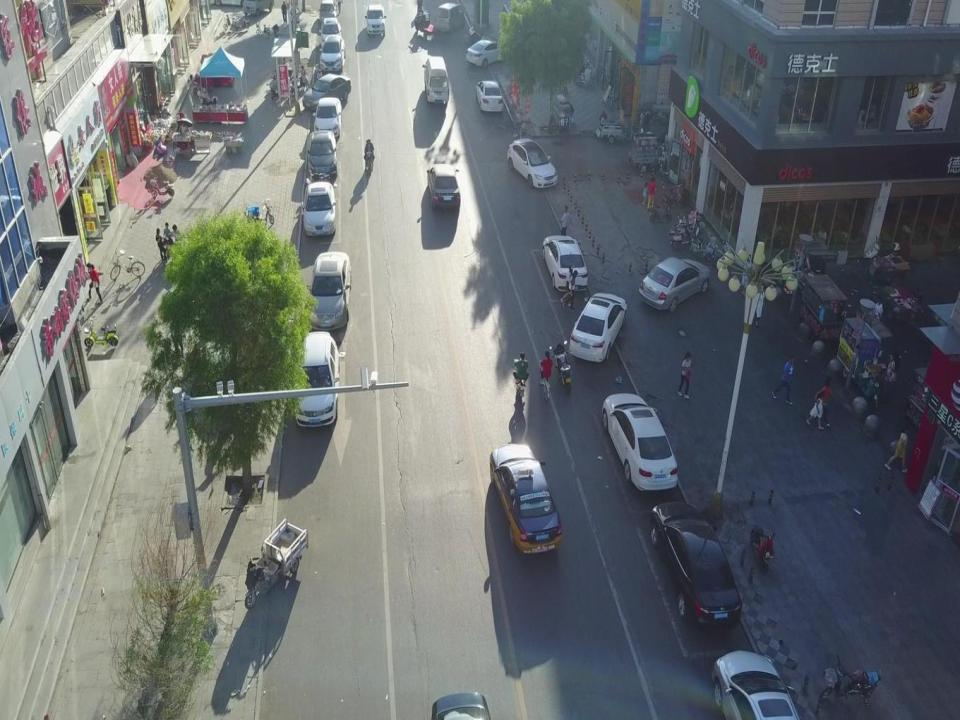car: (649, 500, 742, 628), (485, 442, 560, 558), (601, 392, 677, 490), (712, 651, 799, 720), (293, 332, 339, 426), (570, 292, 626, 361), (638, 257, 709, 311), (306, 250, 351, 330), (543, 235, 587, 292), (507, 140, 557, 188), (301, 180, 336, 236), (302, 72, 351, 110), (307, 129, 337, 183), (426, 163, 460, 210), (312, 96, 341, 138), (467, 38, 508, 66), (320, 34, 346, 72), (476, 81, 503, 112), (320, 18, 342, 49), (365, 4, 385, 35), (318, 0, 339, 24)
van: (423, 57, 449, 105), (435, 3, 466, 32), (243, 0, 274, 18)
